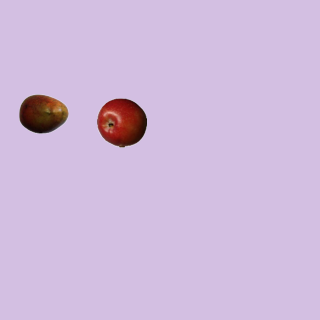Apple Braeburn: (96, 97, 146, 147)
Mango Red: (18, 88, 68, 138)
